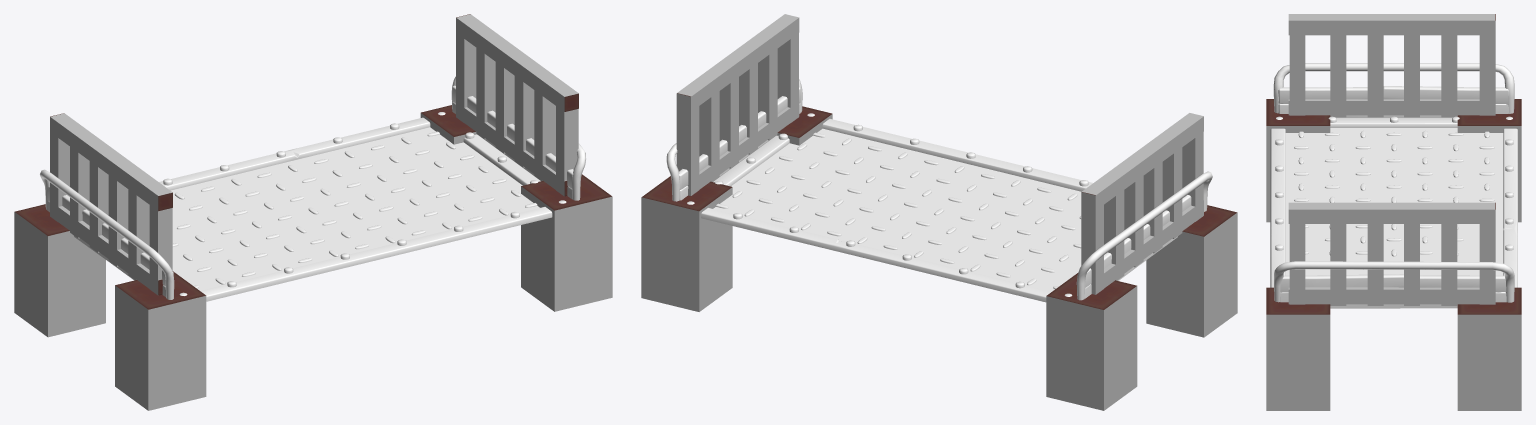
File: Barriers.fbx
3 views of the same model, side by side, from view 1: azimuth 30°, elevation 25°; view 2: azimuth 150°, elevation 25°; view 3: azimuth 270°, elevation 25° (orthographic). The views are drawn at different scales.
Parts seen in each view (by area): view 1: m_dlc08_platform_01, WallBlock 65 (20) (×2), WallBlock 65 (23) (×2), WallBlock 65 (46) (×2), WallBlock 65 (42) (×2), WallBlock 65 (44) (×2), WallBlock 65 (43) (×2), WallBlock 65 (39) (×2), WallBlock 65 (40) (×2), WallBlock 65 (41) (×2), m_dlc08_platform_wall_01 (1), WallBlock 65 (45) (×2) (+1 smaller); view 2: m_dlc08_platform_01, WallBlock 65 (23) (×2), WallBlock 65 (20) (×2), WallBlock 65 (46) (×2), WallBlock 65 (39) (×2), WallBlock 65 (42) (×2), WallBlock 65 (40) (×2), WallBlock 65 (44) (×2), WallBlock 65 (41) (×2), WallBlock 65 (43) (×2), m_dlc08_platform_wall_01 (1), WallBlock 65 (45) (×2) (+1 smaller); view 3: m_dlc08_platform_01, WallBlock 65 (20) (×2), WallBlock 65 (23) (×2), WallBlock 65 (46) (×2), WallBlock 65 (45) (×2), m_dlc08_platform_wall_01, m_dlc08_platform_wall_01 (1), WallBlock 65 (44) (×2), WallBlock 65 (40) (×2), WallBlock 65 (39) (×2), WallBlock 65 (42) (×2), WallBlock 65 (41) (×2) (+1 smaller).
Boxes of the visible parts, x1=… form: m_dlc08_platform_01: x1=159, y1=112, x2=566, y2=301; WallBlock 65 (20) (×2): x1=115, y1=174, x2=612, y2=410; WallBlock 65 (23) (×2): x1=14, y1=105, x2=477, y2=337; WallBlock 65 (46) (×2): x1=50, y1=14, x2=578, y2=211; WallBlock 65 (42) (×2): x1=149, y1=94, x2=578, y2=295; WallBlock 65 (44) (×2): x1=128, y1=75, x2=555, y2=280; WallBlock 65 (43) (×2): x1=108, y1=61, x2=534, y2=266; WallBlock 65 (39) (×2): x1=50, y1=14, x2=476, y2=221; WallBlock 65 (40) (×2): x1=70, y1=32, x2=495, y2=238; WallBlock 65 (41) (×2): x1=89, y1=47, x2=514, y2=252; m_dlc08_platform_wall_01 (1): x1=40, y1=169, x2=174, y2=299; WallBlock 65 (45) (×2): x1=58, y1=107, x2=567, y2=295; m_dlc08_platform_01: x1=687, y1=113, x2=1092, y2=302; WallBlock 65 (23) (×2): x1=641, y1=176, x2=1137, y2=410; WallBlock 65 (20) (×2): x1=776, y1=106, x2=1237, y2=337; WallBlock 65 (46) (×2): x1=677, y1=14, x2=1203, y2=204; WallBlock 65 (39) (×2): x1=676, y1=91, x2=1103, y2=294; WallBlock 65 (42) (×2): x1=777, y1=18, x2=1203, y2=221; WallBlock 65 (40) (×2): x1=699, y1=76, x2=1124, y2=280; WallBlock 65 (44) (×2): x1=758, y1=34, x2=1182, y2=238; WallBlock 65 (41) (×2): x1=719, y1=62, x2=1143, y2=267; WallBlock 65 (43) (×2): x1=739, y1=48, x2=1162, y2=253; m_dlc08_platform_wall_01 (1): x1=1076, y1=171, x2=1212, y2=300; WallBlock 65 (45) (×2): x1=699, y1=101, x2=1203, y2=288; m_dlc08_platform_01: x1=1270, y1=116, x2=1517, y2=287; WallBlock 65 (20) (×2): x1=1266, y1=99, x2=1330, y2=410; WallBlock 65 (23) (×2): x1=1457, y1=99, x2=1521, y2=410; WallBlock 65 (46) (×2): x1=1288, y1=14, x2=1494, y2=223; WallBlock 65 (45) (×2): x1=1288, y1=99, x2=1494, y2=304; m_dlc08_platform_wall_01: x1=1274, y1=261, x2=1514, y2=308; m_dlc08_platform_wall_01 (1): x1=1273, y1=63, x2=1514, y2=117; WallBlock 65 (44) (×2): x1=1330, y1=20, x2=1346, y2=305; WallBlock 65 (40) (×2): x1=1441, y1=20, x2=1457, y2=305; WallBlock 65 (39) (×2): x1=1479, y1=14, x2=1495, y2=304; WallBlock 65 (42) (×2): x1=1289, y1=20, x2=1305, y2=304; WallBlock 65 (41) (×2): x1=1404, y1=20, x2=1419, y2=305.
Size of the model in its own units: 9.6 by 3.97 by 4.8.
